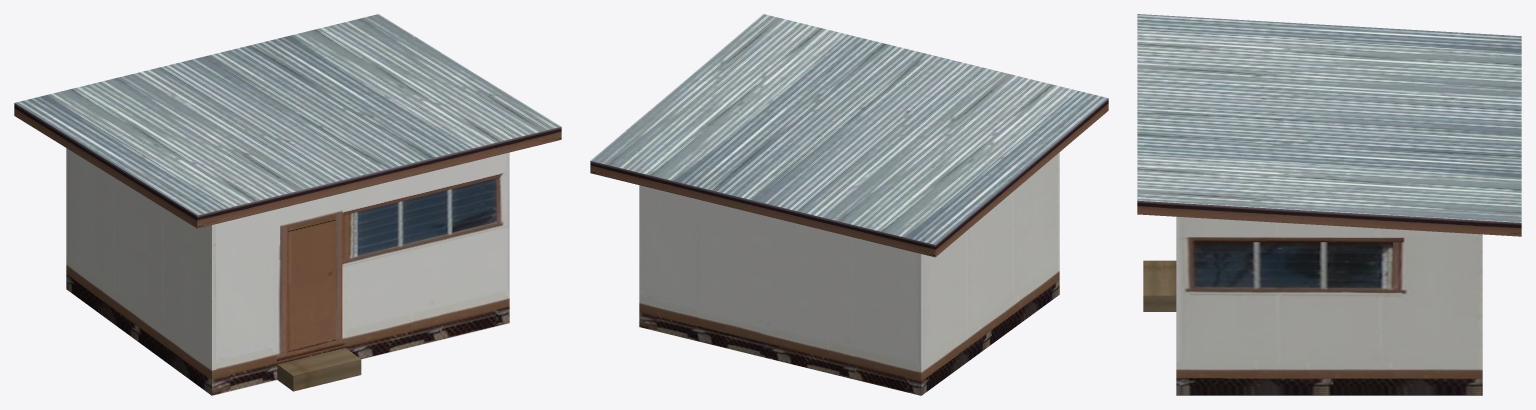
Rendered from terminal-tiny-6x5v2-cbj_LOD00.gltf.
The picture shows the model from 3 angles, left to right: view 1: azimuth 30°, elevation 25°; view 2: azimuth 150°, elevation 25°; view 3: azimuth 270°, elevation 25°; orthographic projection. The views are drawn at different scales.
Parts seen in each view (by area): view 1: Cube; view 2: Cube; view 3: Cube.
Boxes of the visible parts, bbox=[...] form: Cube: bbox=[14, 14, 561, 395]; Cube: bbox=[590, 14, 1108, 395]; Cube: bbox=[1137, 14, 1521, 395].
Bounding box in the file's own units: 6.12 × 3.24 × 5.32.
